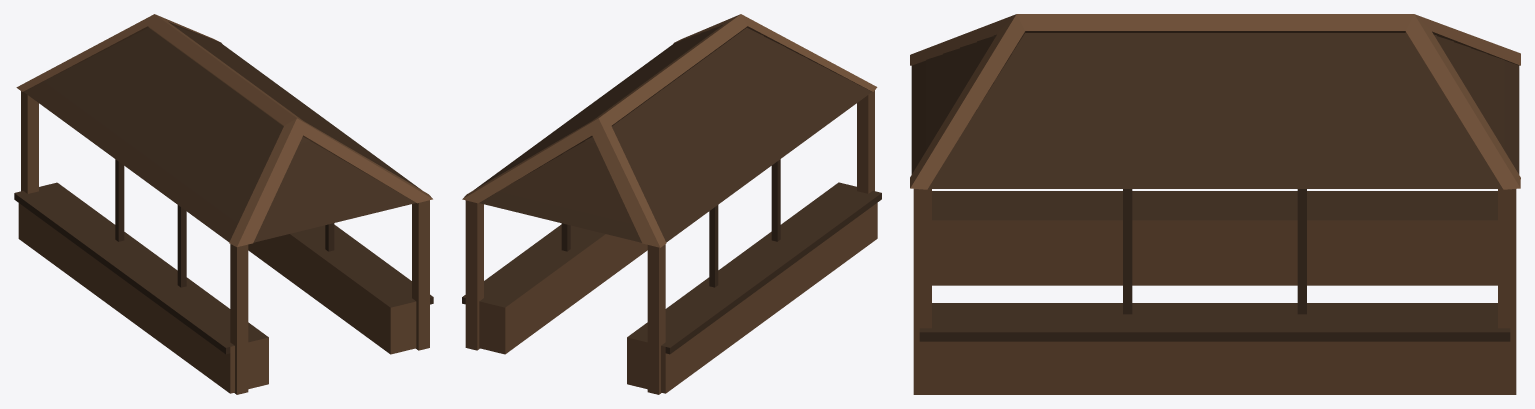
Rendered from market_base_mat.fbx.
3 renders of one model, left to right at view 1: azimuth 30°, elevation 25°; view 2: azimuth 150°, elevation 25°; view 3: azimuth 270°, elevation 25°, orthographic. The views are drawn at different scales.
Parts seen in each view (by area): view 1: market_base_mat; view 2: market_base_mat; view 3: market_base_mat.
Boxes of the visible parts, bbox=[...] form: market_base_mat: bbox=[14, 14, 433, 394]; market_base_mat: bbox=[462, 14, 881, 394]; market_base_mat: bbox=[910, 14, 1520, 394].
Size of the model in its own units: 262 by 272 by 477.
